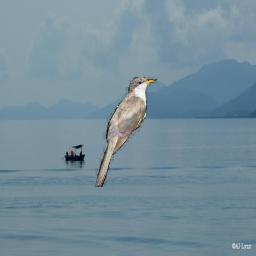Cuckoo: (95, 77, 158, 187)
